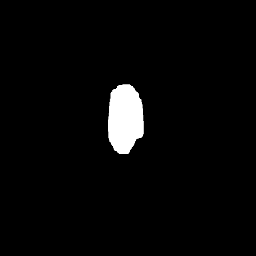mass: (154, 93, 183, 141)
